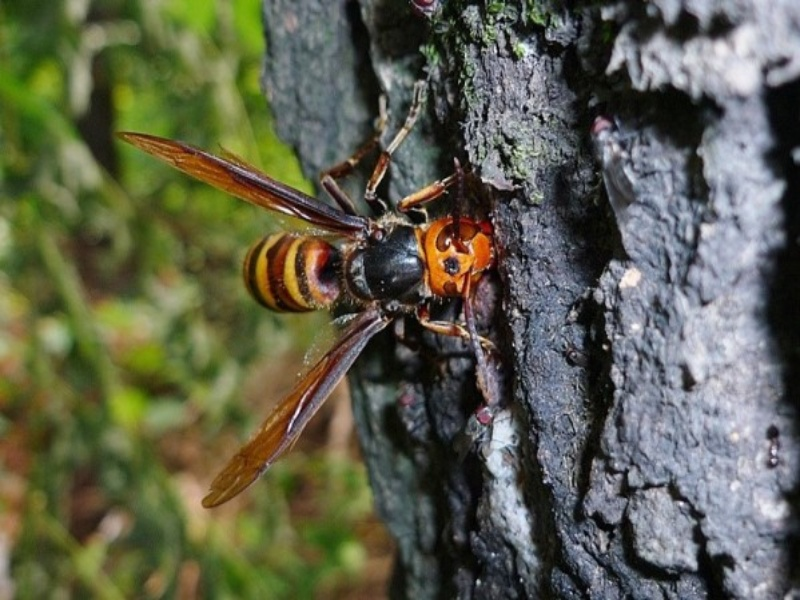asian_giant_hornet: (238, 195, 498, 339)
